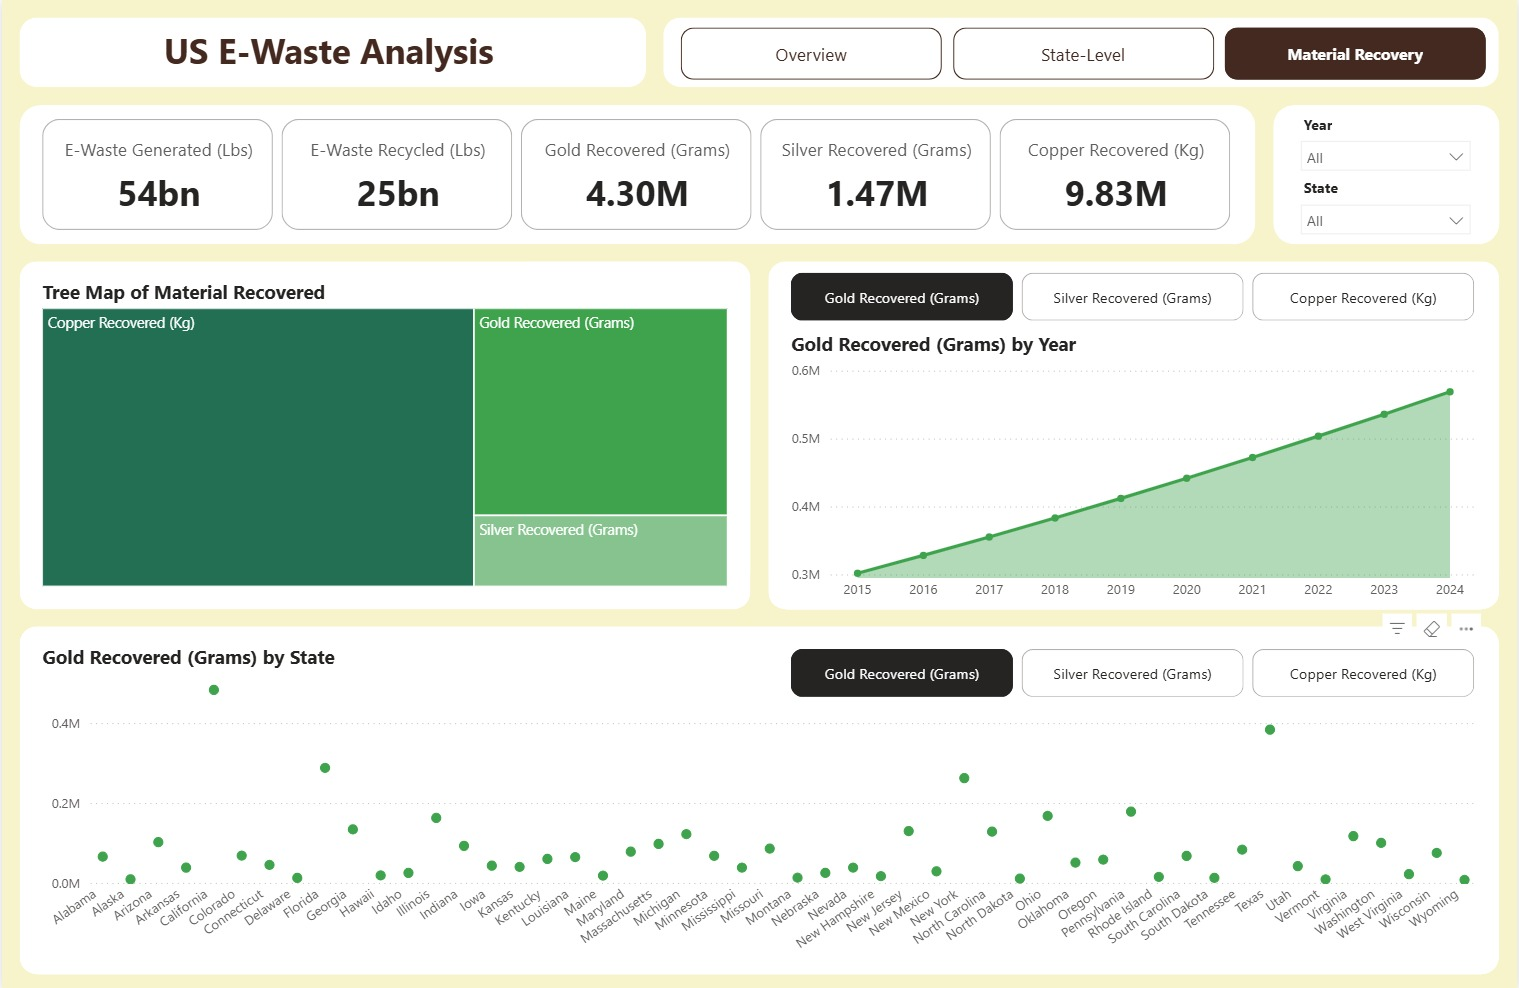

The page's visual inventory and layout, read from the dashboard file:
{"tool":"powerbi","page":{"name":"Material Recovery","canvas":[1392,910],"ordinal":2},"visuals":[{"type":"shape","box":[16,576,1360,320],"z":0},{"type":"shape","box":[704,240,672,320],"z":1000},{"type":"shape","box":[16,240,672,320],"z":2000},{"type":"treemap","title":"Tree Map of Material Recovered","fields":{"Values":["Sum(ReBinTech_US_Ewaste_StateModeled_2015_2024.Gold_Recovered_grams)","Sum(ReBinTech_US_Ewaste_StateModeled_2015_2024.Silver_Recovered_grams)","Sum(ReBinTech_US_Ewaste_StateModeled_2015_2024.Copper_Recovered_kg)"]},"box":[32,256,640,288],"z":3000},{"type":"scatterChart","fields":{"Y":["Measure.Total Gold Recovered (Grams)"],"X":["ReBinTech_US_Ewaste_StateModeled_2015_2024.State"]},"box":[32,592,1328,304],"z":4000},{"type":"lineChart","fields":{"Y":["Measure.Total Gold Recovered (Grams)"],"Category":["ReBinTech_US_Ewaste_StateModeled_2015_2024.Year"]},"box":[720,304,640,256],"z":5000},{"type":"shape","box":[1168,96,208,128],"z":6000},{"type":"shape","box":[608,16,768,64],"z":7000},{"type":"shape","box":[16,96,1136,128],"z":8000},{"type":"shape","box":[16,16,576,64],"z":9000},{"type":"cardVisual","fields":{"Data":["Measure.Total E-Waste Generated","Measure.Total Recycled","Measure.Total Gold Recovered (Grams)","Measure.Total Silver Recovered (Grams)","Measure.Total Copper Recovered (Kg)"]},"box":[32,105,1106,112],"z":10000},{"type":"textbox","box":[144,16,320,64],"z":11000},{"type":"pageNavigator","box":[624,25,740,48],"z":12000},{"type":"slicer","fields":{"Values":["ReBinTech_US_Ewaste_StateModeled_2015_2024.Year"]},"box":[1184,100,176,64],"z":13000},{"type":"slicer","fields":{"Values":["ReBinTech_US_Ewaste_StateModeled_2015_2024.State"]},"box":[1184,159,176,60],"z":14000},{"type":"advancedSlicerVisual","fields":{"Values":["Parameter.Parameter"]},"box":[720,246,640,54],"z":15000},{"type":"advancedSlicerVisual","fields":{"Values":["Parameter 2.Parameter 2"]},"box":[720,592,640,54],"z":16000}]}

Visuals, with their boxes in screenshot pixels (x1, y1, x2, y2), scaled from the page's 1392x910 canvas onto the 1519x988 screenshot:
shape: {"x1": 17, "y1": 625, "x2": 1502, "y2": 973}
shape: {"x1": 768, "y1": 261, "x2": 1502, "y2": 608}
shape: {"x1": 17, "y1": 261, "x2": 751, "y2": 608}
"Tree Map of Material Recovered" treemap: {"x1": 35, "y1": 278, "x2": 733, "y2": 591}
scatterChart - Measure.Total Gold Recovered (Grams) x ReBinTech_US_Ewaste_StateModeled_2015_2024.State: {"x1": 35, "y1": 643, "x2": 1484, "y2": 973}
lineChart - Measure.Total Gold Recovered (Grams) x ReBinTech_US_Ewaste_StateModeled_2015_2024.Year: {"x1": 786, "y1": 330, "x2": 1484, "y2": 608}
shape: {"x1": 1275, "y1": 104, "x2": 1502, "y2": 243}
shape: {"x1": 663, "y1": 17, "x2": 1502, "y2": 87}
shape: {"x1": 17, "y1": 104, "x2": 1257, "y2": 243}
shape: {"x1": 17, "y1": 17, "x2": 646, "y2": 87}
cardVisual - Measure.Total E-Waste Generated x Measure.Total Recycled: {"x1": 35, "y1": 114, "x2": 1242, "y2": 236}
textbox: {"x1": 157, "y1": 17, "x2": 506, "y2": 87}
pageNavigator: {"x1": 681, "y1": 27, "x2": 1488, "y2": 79}
slicer - ReBinTech_US_Ewaste_StateModeled_2015_2024.Year: {"x1": 1292, "y1": 109, "x2": 1484, "y2": 178}
slicer - ReBinTech_US_Ewaste_StateModeled_2015_2024.State: {"x1": 1292, "y1": 173, "x2": 1484, "y2": 238}
advancedSlicerVisual - Parameter.Parameter: {"x1": 786, "y1": 267, "x2": 1484, "y2": 326}
advancedSlicerVisual - Parameter 2.Parameter 2: {"x1": 786, "y1": 643, "x2": 1484, "y2": 701}
